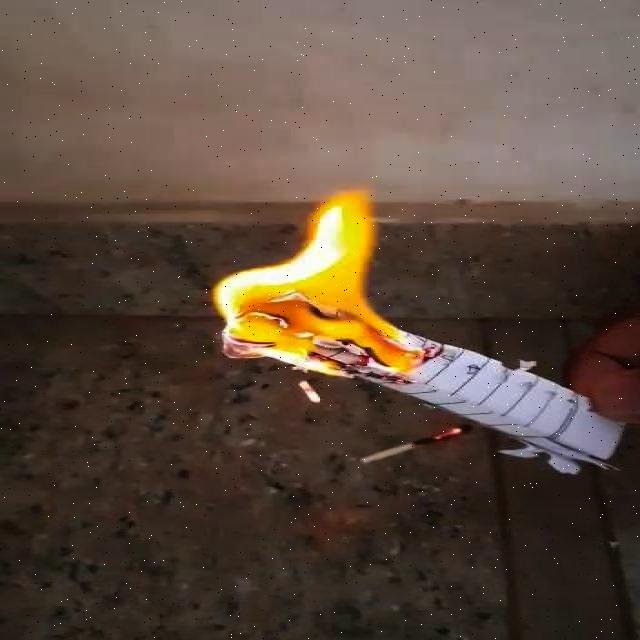fire: (217, 192, 428, 390)
